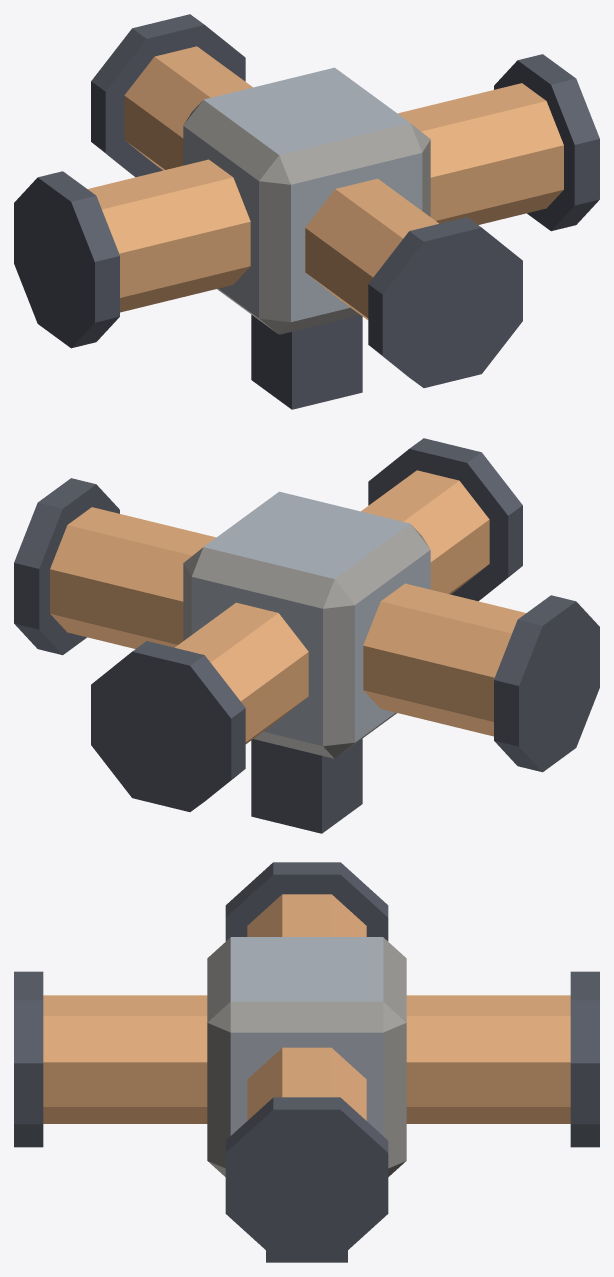
Rendered from cano_cruz_sem_textura.glb.
The picture shows the model from 3 angles, top to bottom: view 1: azimuth 30°, elevation 25°; view 2: azimuth 150°, elevation 25°; view 3: azimuth 270°, elevation 25°; orthographic projection.
Parts seen in each view (by area): view 1: cano_cruz; view 2: cano_cruz; view 3: cano_cruz.
Part boxes in pixels (x1,y1,x2,y2): cano_cruz: (14, 14, 599, 409); cano_cruz: (14, 438, 599, 833); cano_cruz: (14, 862, 599, 1262).
Bounding box in the file's own units: 1 × 0.52 × 1.
